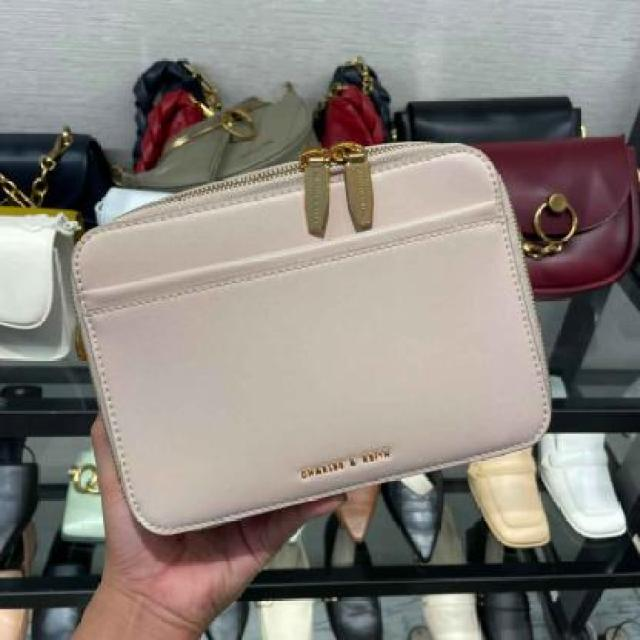Bag: (71, 110, 547, 530)
